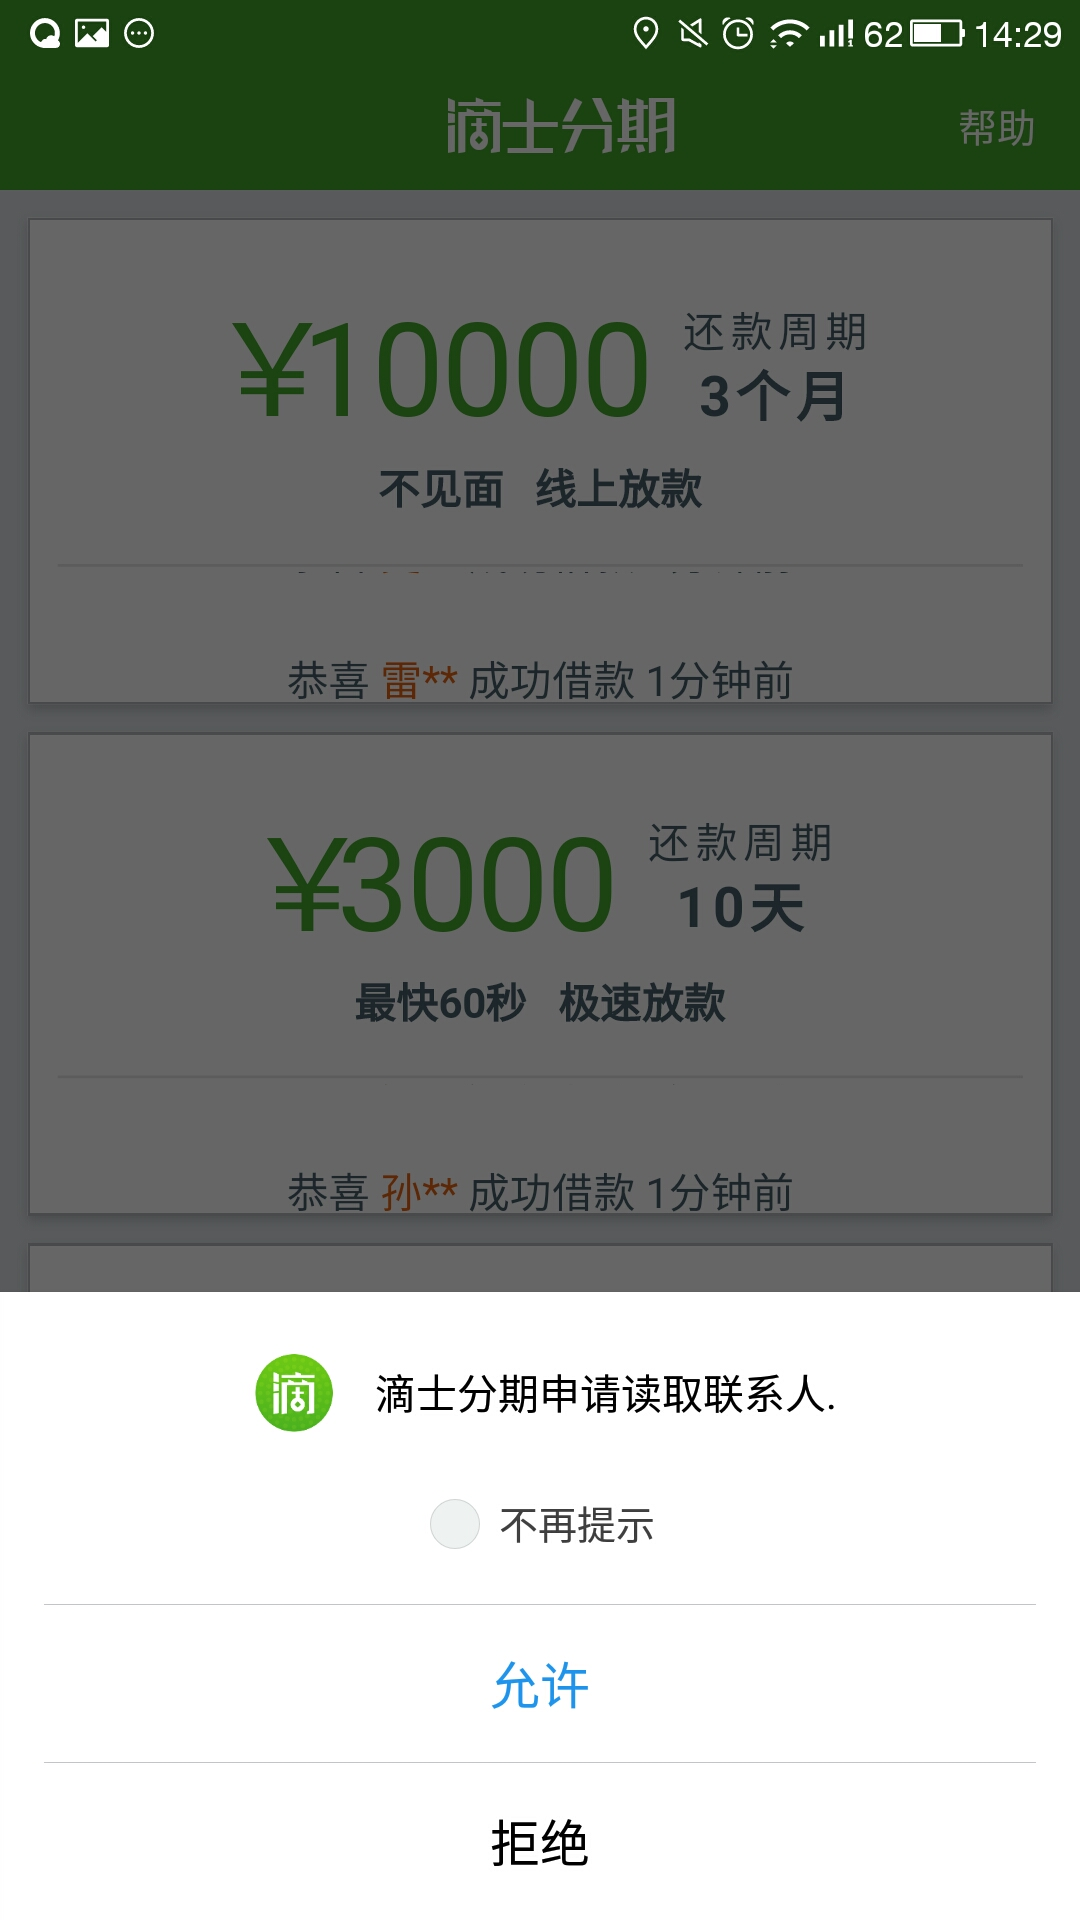button: (41, 1598, 1052, 1764)
checkbox: (377, 1465, 728, 1580)
